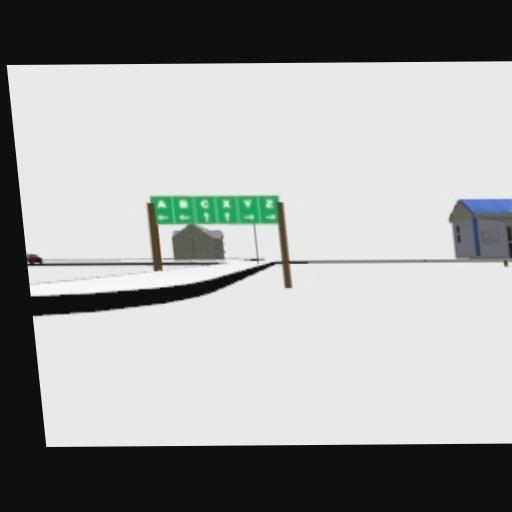A: (156, 199, 166, 209)
B: (178, 199, 188, 209)
C: (199, 199, 209, 209)
Left: (178, 213, 192, 222), (156, 214, 169, 222)
Right: (242, 213, 255, 221), (264, 213, 277, 221)
Straight: (224, 211, 232, 224), (203, 211, 211, 222)
X: (221, 199, 231, 210)
Y: (242, 198, 252, 208)
Z: (264, 199, 274, 210)
